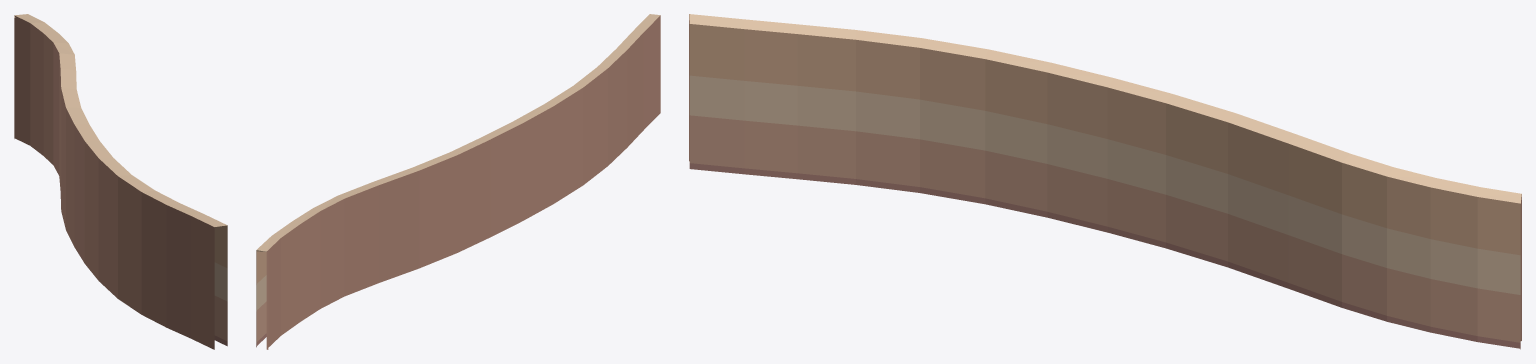
File: pared_izquierda_1.glb
3 renders of one model, left to right at view 1: azimuth 30°, elevation 25°; view 2: azimuth 150°, elevation 25°; view 3: azimuth 270°, elevation 25°, orthographic. The views are drawn at different scales.
Parts seen in each view (by area): view 1: pared_izquierda_1; view 2: pared_izquierda_1; view 3: pared_izquierda_1.
Part boxes in pixels (box(x1,y1,x2,y2)): pared_izquierda_1: box(14, 14, 227, 349); pared_izquierda_1: box(256, 14, 660, 349); pared_izquierda_1: box(689, 14, 1521, 349).
Size of the model in its own units: 10.33 by 12.2 by 37.94.
